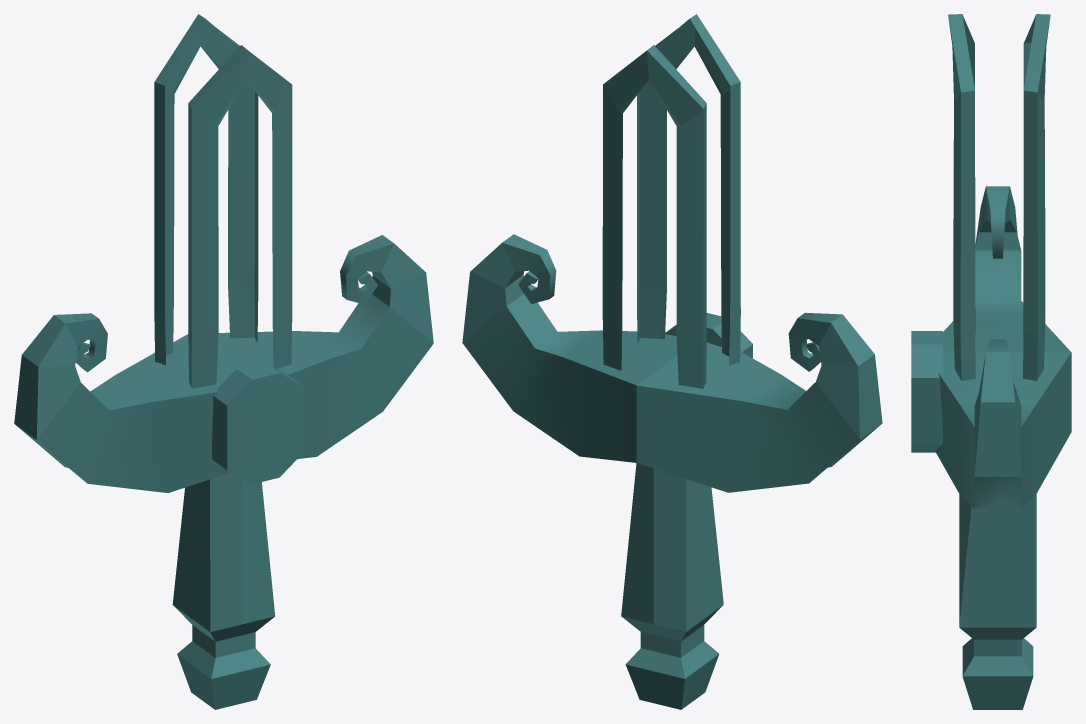
File: wind_handle.fbx
3 views of the same model, side by side, from view 1: azimuth 30°, elevation 25°; view 2: azimuth 150°, elevation 25°; view 3: azimuth 270°, elevation 25° (orthographic). The views are drawn at different scales.
Parts seen in each view (by area): view 1: wind_handle5; view 2: wind_handle5; view 3: wind_handle5.
Part boxes in pixels (box(x1,y1,x2,y2)): wind_handle5: box(14, 14, 433, 709); wind_handle5: box(462, 14, 882, 709); wind_handle5: box(911, 14, 1071, 709).
Size of the model in its own units: 39.5 by 63.12 by 13.35.
